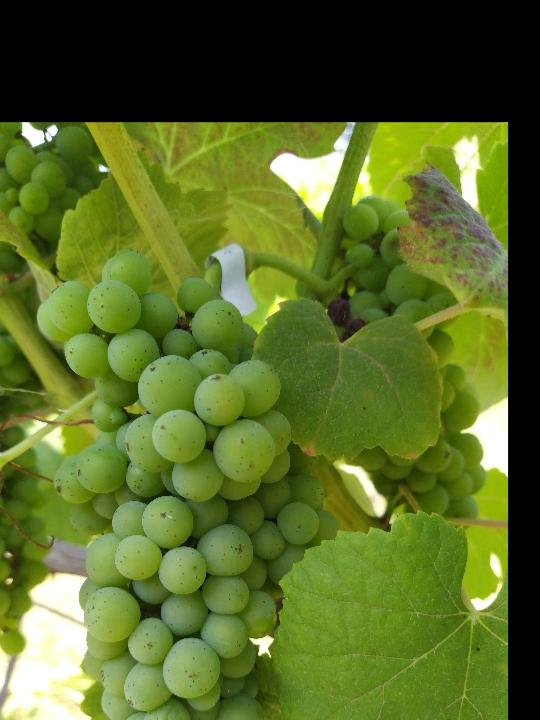grape: (35, 248, 346, 720)
